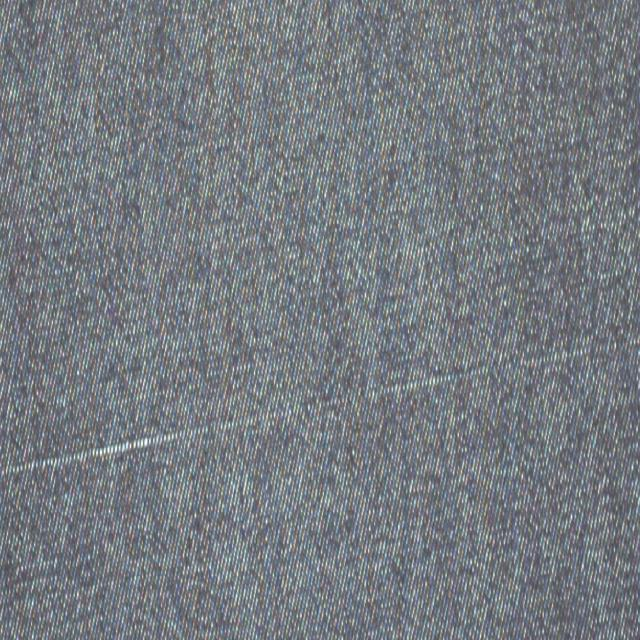Line: (0, 332, 638, 483)
